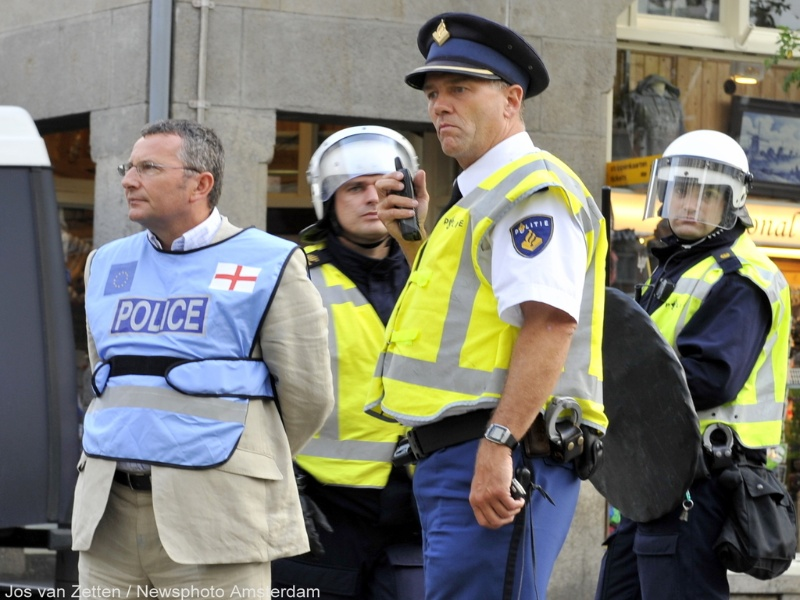helmet: (301, 124, 421, 210), (666, 129, 755, 201)
jacket: (384, 147, 614, 430), (88, 235, 293, 474), (651, 240, 800, 449), (303, 251, 427, 491)
